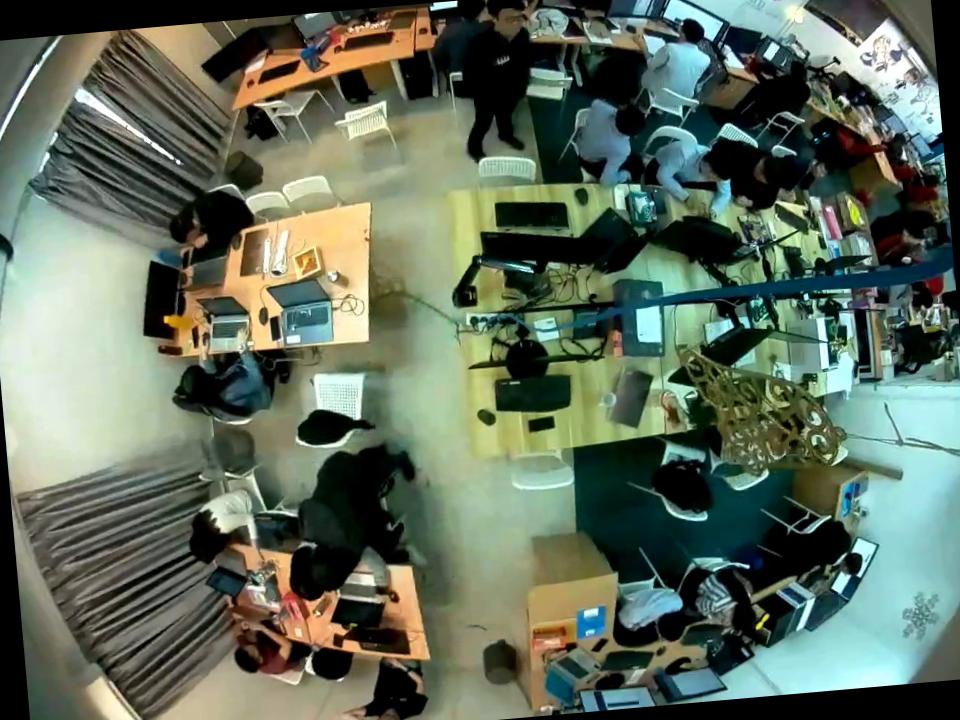employee_tag: (494, 54, 512, 68)
